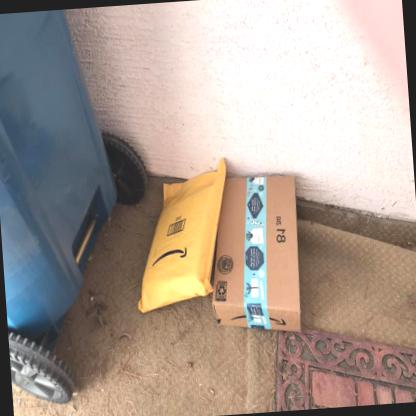box: (200, 171, 306, 336)
envelope: (135, 157, 232, 314)
